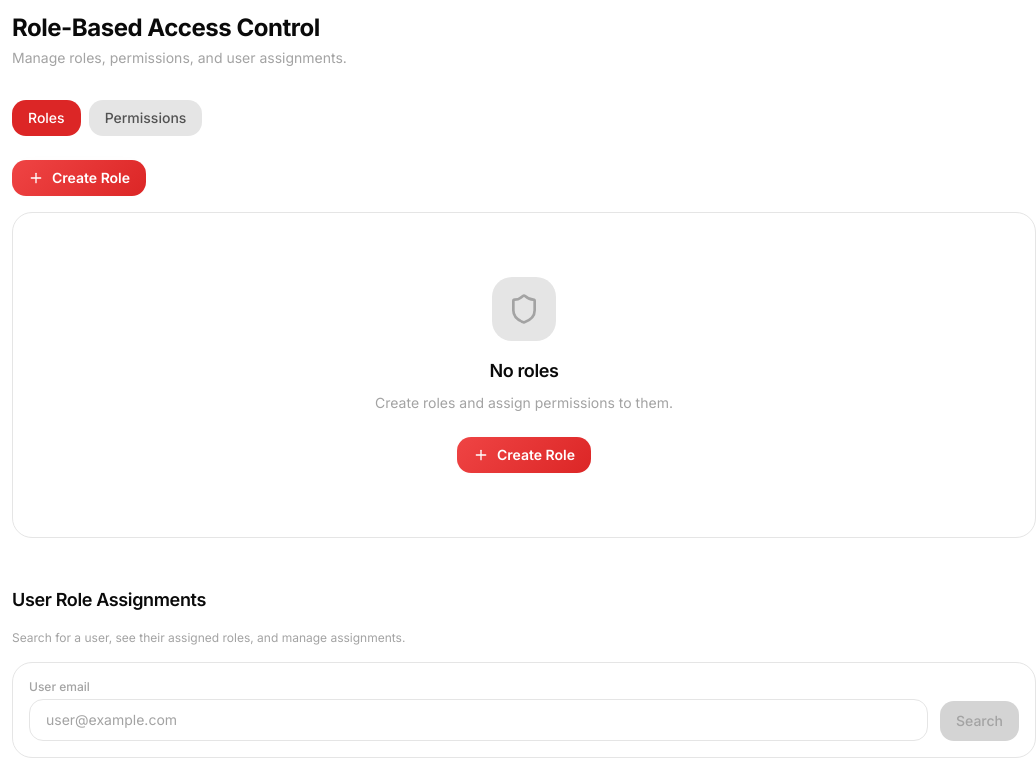
Test: AdminRbacPage — tabs › defaults to roles and switches to permissions
Check: the 1st button "Create Role" is shown, box [12,160,146,196]
Click the button "permissions". click: (145, 118)
box: [89,100,202,136]
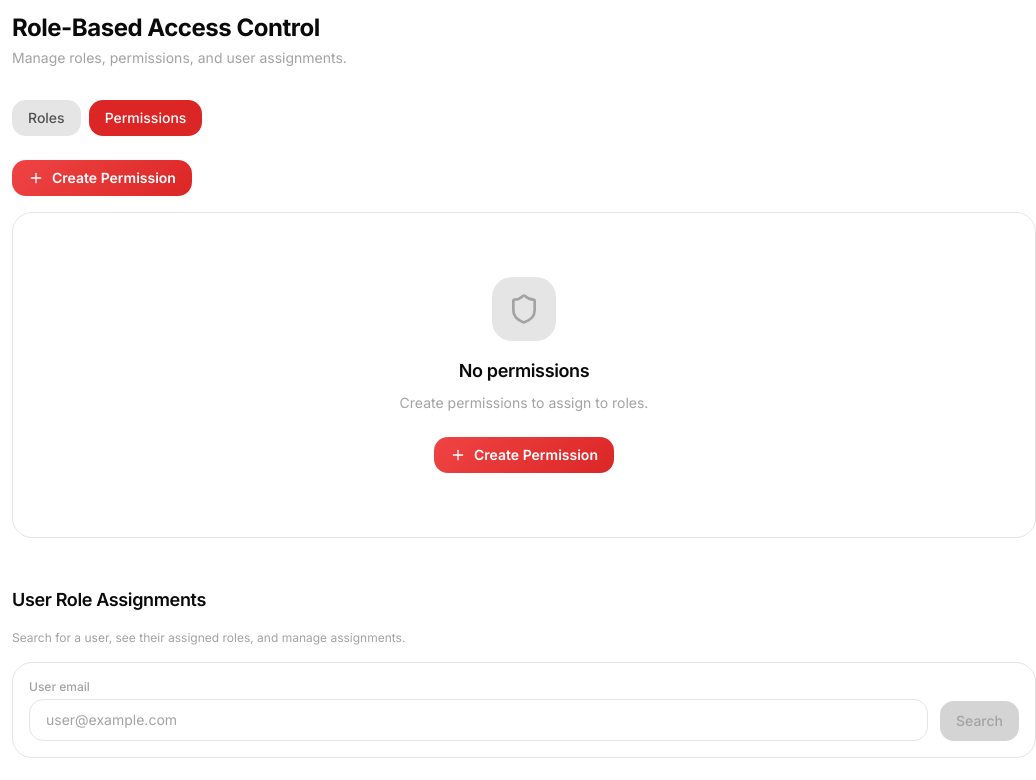
Check: the 1st button "Create Permission" is shown, box [12,160,192,196]
Check: no buttons "Create Role" are shown
